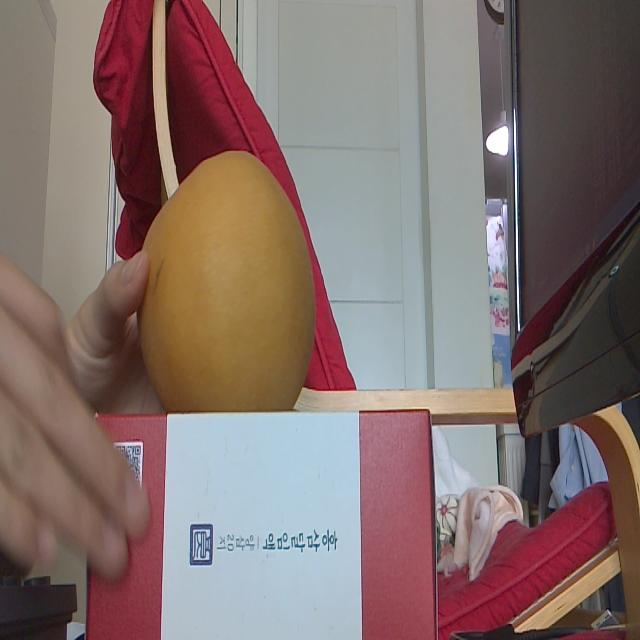pear: (130, 142, 321, 411)
